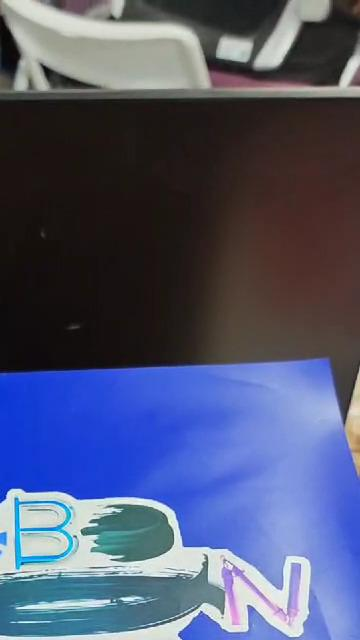B_R1: (0, 482, 321, 640)
